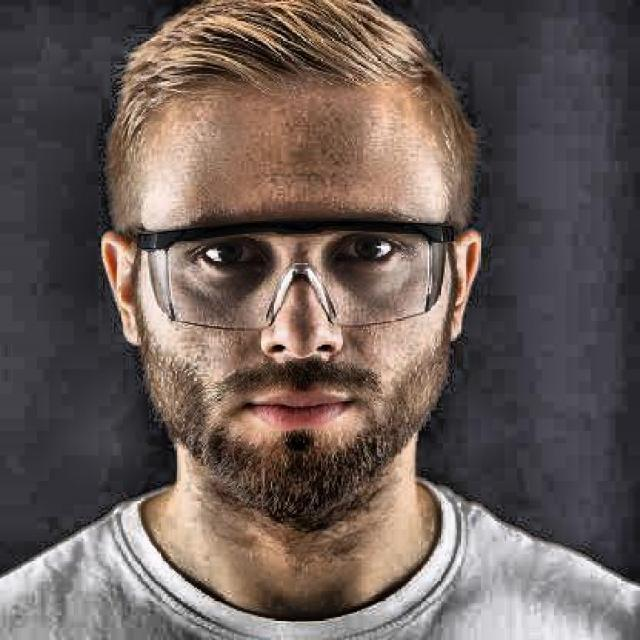Goggles: (102, 201, 487, 337)
